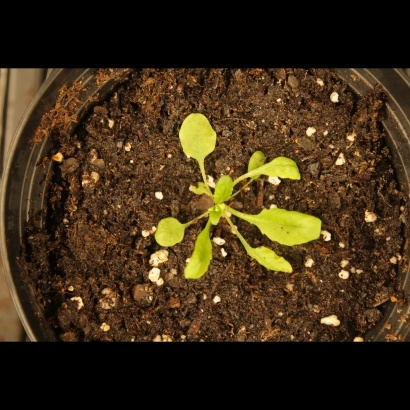leaf: (252, 199, 327, 251), (167, 107, 220, 167), (246, 157, 308, 191), (241, 246, 296, 284), (180, 222, 214, 281), (151, 212, 188, 251), (211, 172, 235, 209), (243, 150, 268, 182), (205, 205, 228, 228), (186, 175, 209, 198)
